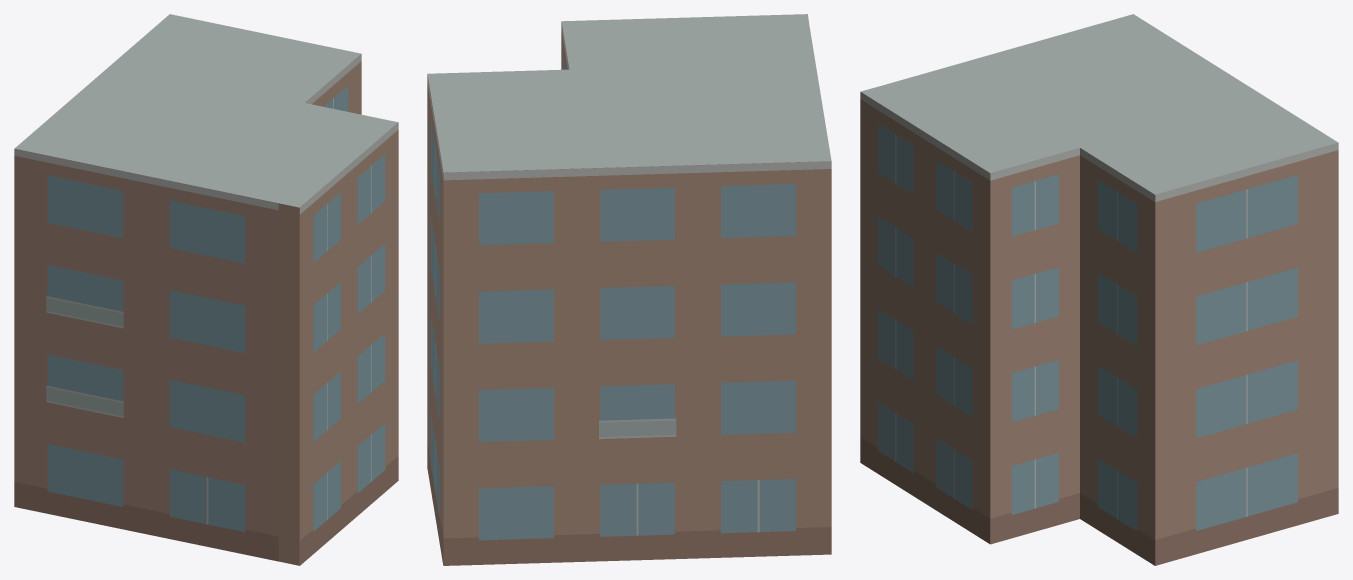
Rendered from residential-a6269dc4-f588-4efb-958e-c1b9e21dc2e1.glb.
3 views of the same model, side by side, from view 1: azimuth 30°, elevation 25°; view 2: azimuth 150°, elevation 25°; view 3: azimuth 270°, elevation 25° (orthographic). The views are drawn at different scales.
Visible parts, largest first — view 1: residential-a6269dc4-f588-4efb-958e-c1b9e21dc2e1.tmp; view 2: residential-a6269dc4-f588-4efb-958e-c1b9e21dc2e1.tmp; view 3: residential-a6269dc4-f588-4efb-958e-c1b9e21dc2e1.tmp.
Part boxes in pixels (<box>): residential-a6269dc4-f588-4efb-958e-c1b9e21dc2e1.tmp: <box>14,14,398,565</box>; residential-a6269dc4-f588-4efb-958e-c1b9e21dc2e1.tmp: <box>427,14,831,565</box>; residential-a6269dc4-f588-4efb-958e-c1b9e21dc2e1.tmp: <box>860,14,1338,565</box>.
Size of the model in its own units: 12.76 by 12.2 by 14.26.
